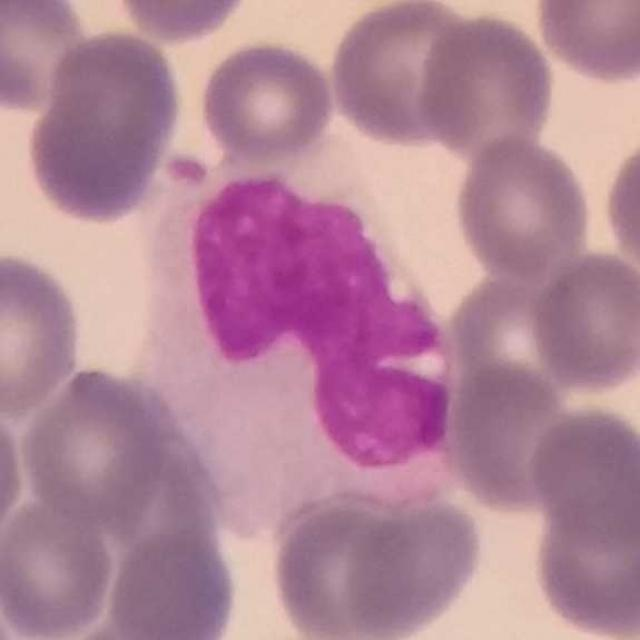mono: (138, 139, 459, 533)
